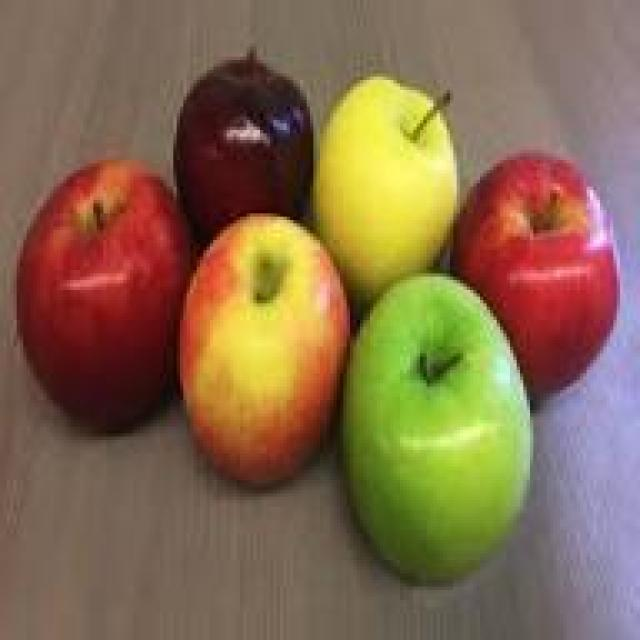apple: (334, 273, 524, 550), (186, 210, 346, 473), (13, 173, 197, 400), (457, 140, 610, 380), (320, 80, 467, 280), (166, 56, 316, 216)
